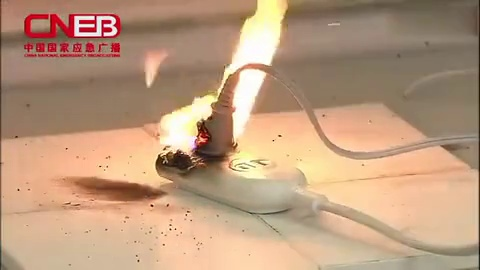fire: (149, 4, 293, 165)
